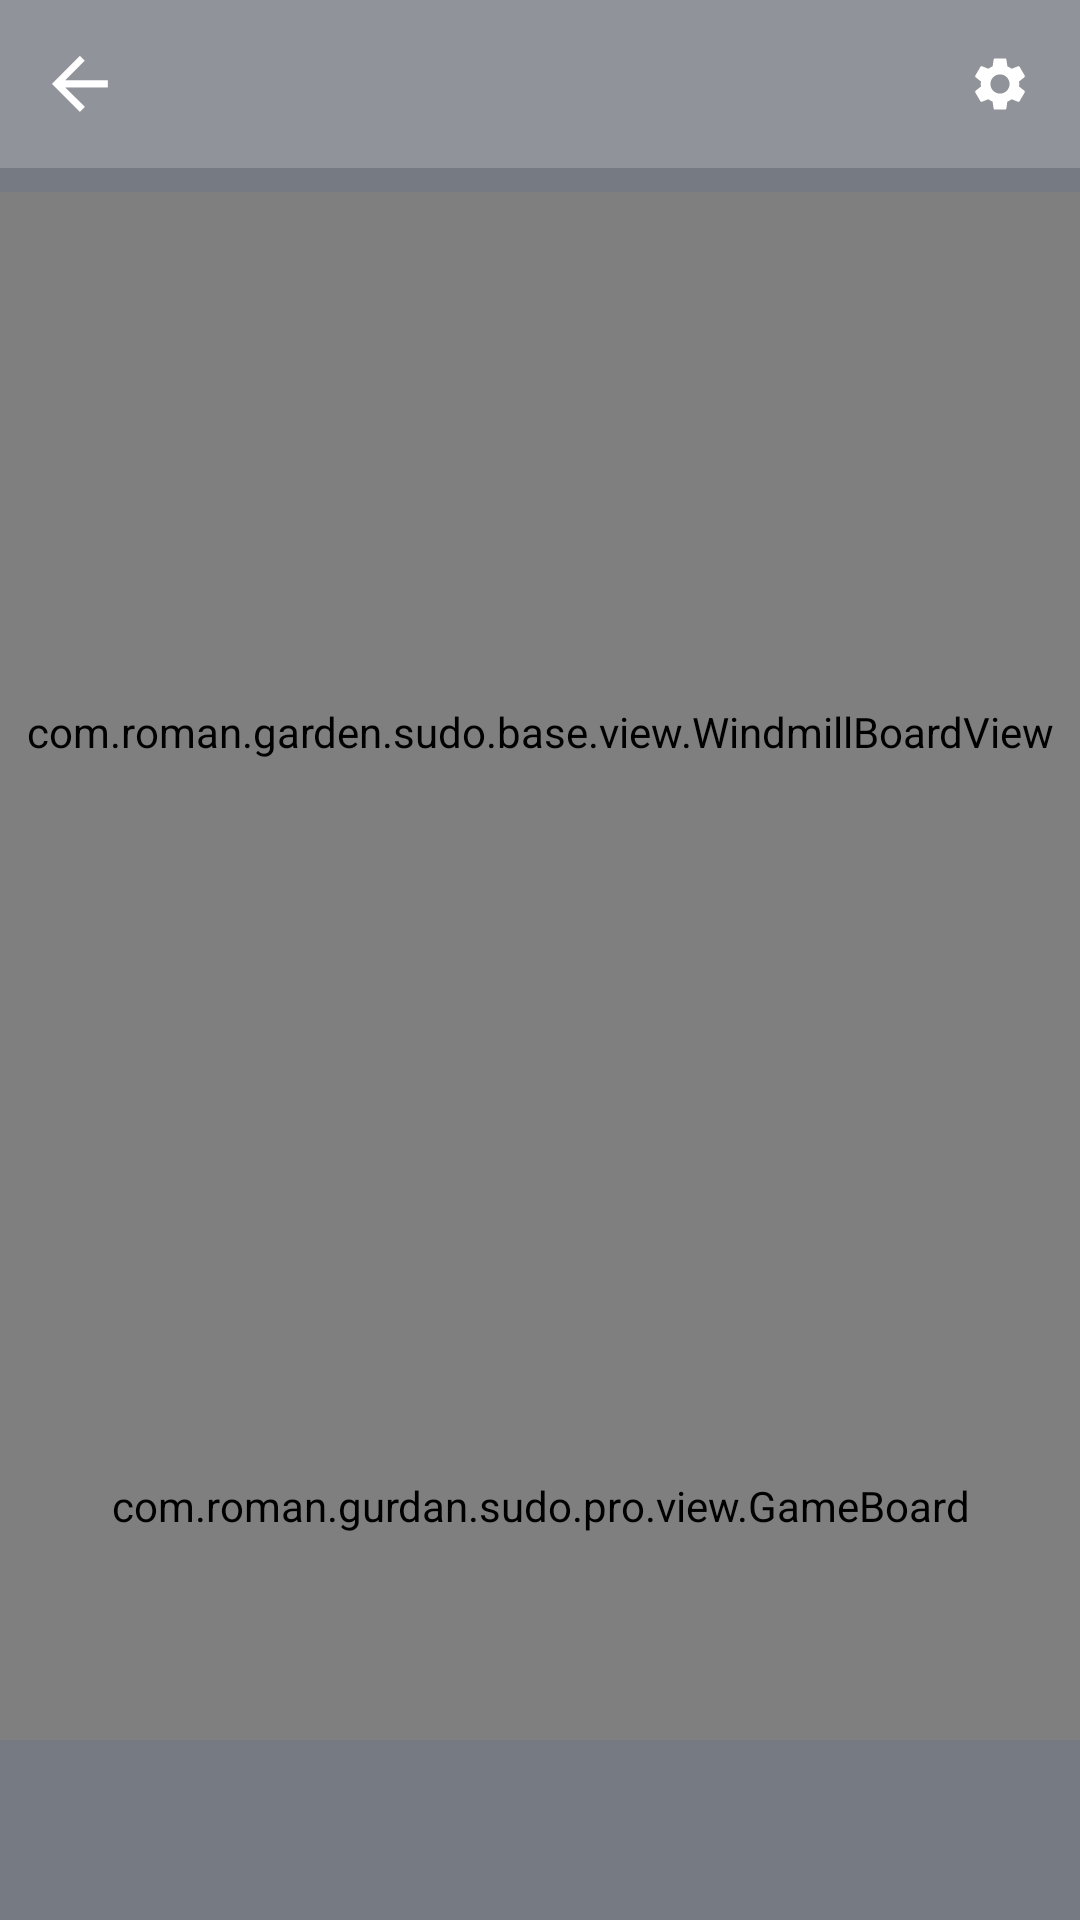

Locate icon controls on the screen. Image size 1080 × 1920, boxes as (x1, y1, x2, y2).
setting: (975, 58, 1025, 110)
